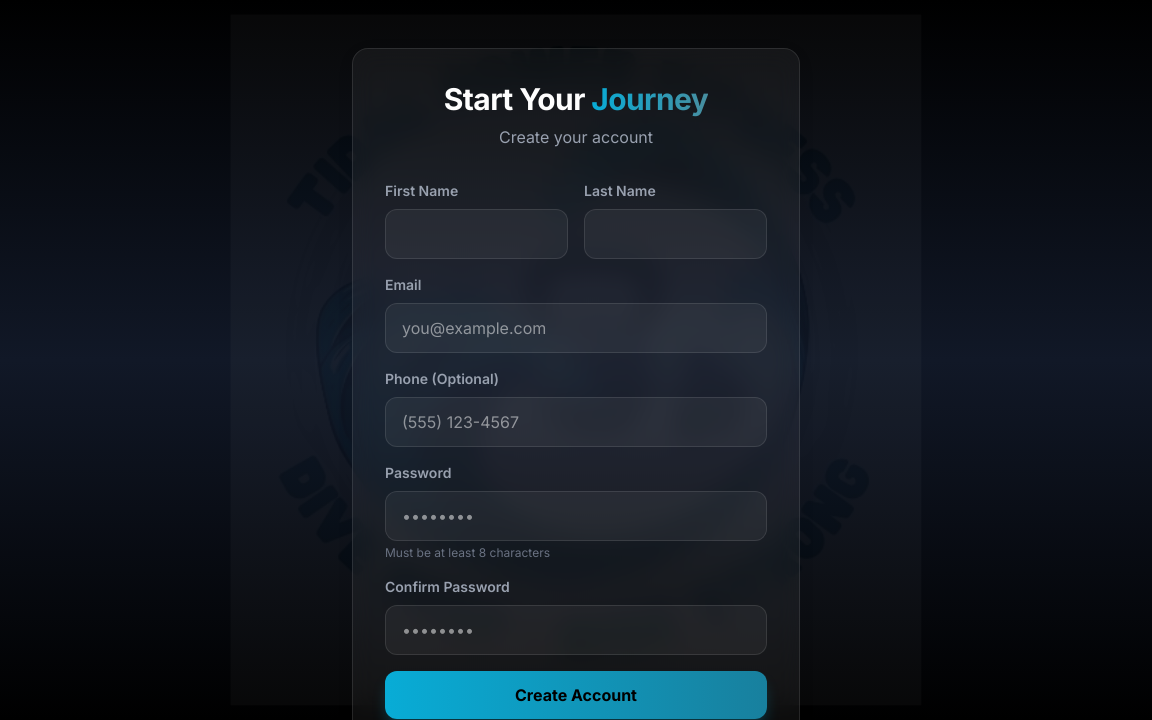
Test case: RegisterPage › should show an error on registration failure
The image size is (1152, 720).
In the field labelled "First Name": (476, 234) top-left (385, 209), bottom-right (568, 259), type "John"
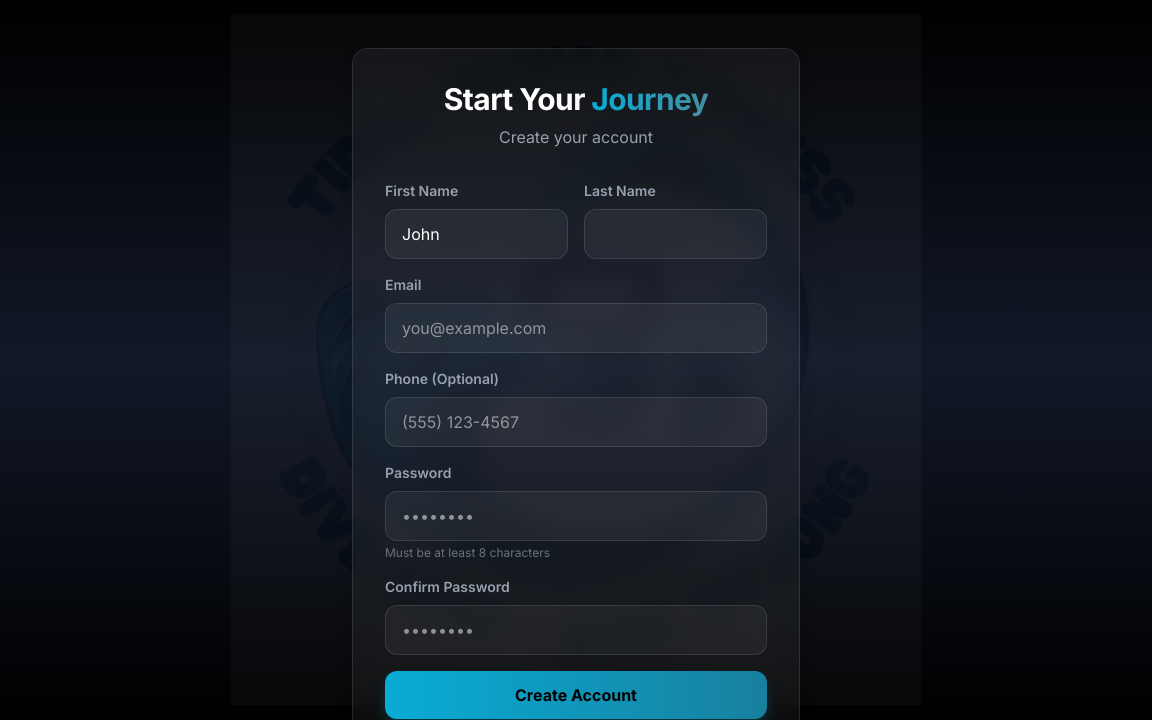
In the field labelled "Last Name": (676, 234) top-left (584, 209), bottom-right (767, 259), type "Doe"
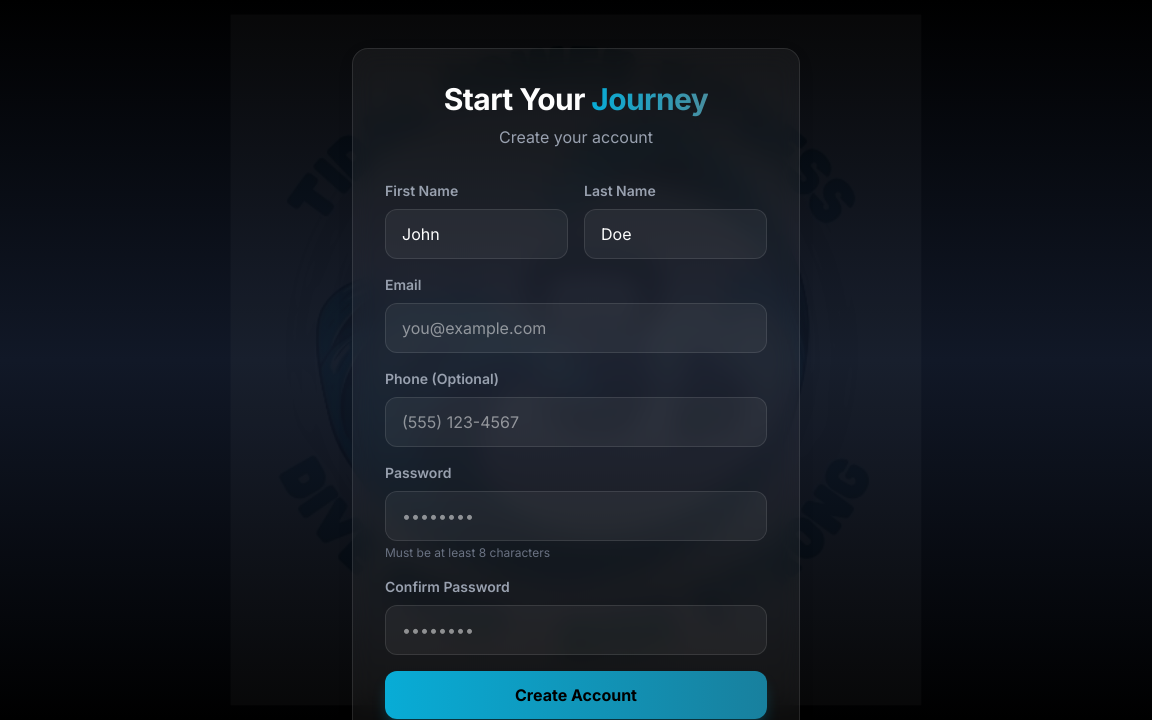
In the field labelled "Email": (576, 328) top-left (385, 303), bottom-right (767, 353), type "john.doe@example.com"
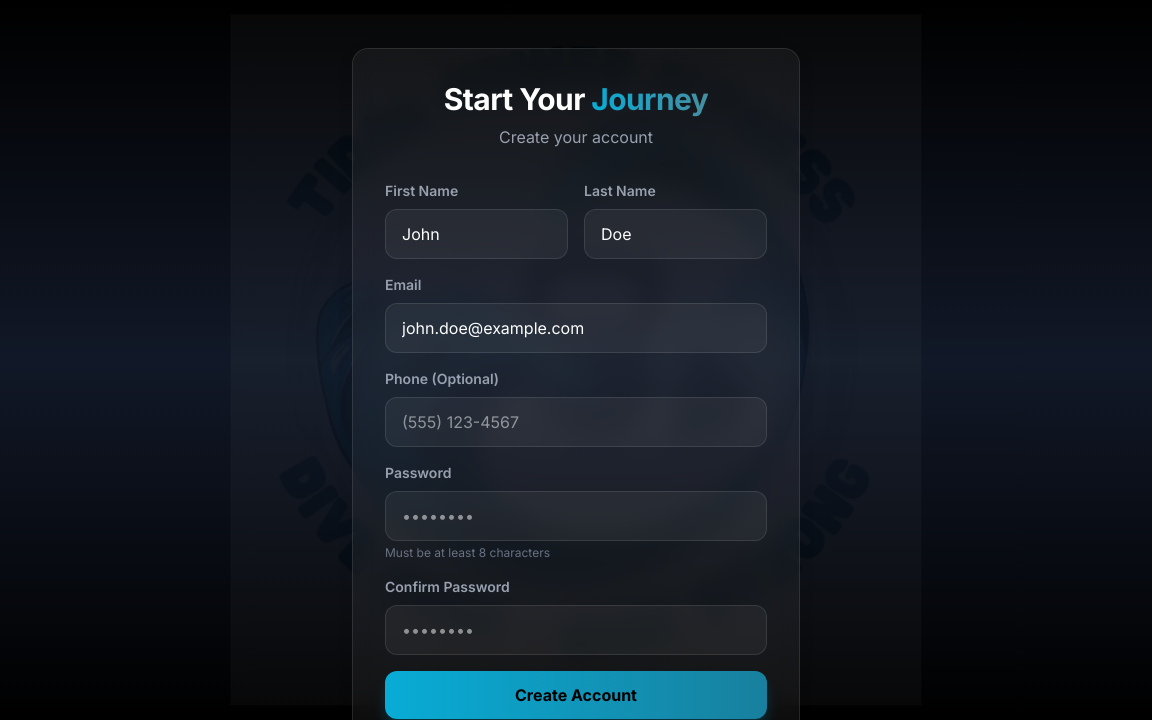
In the password field labelled "Password": (576, 516) top-left (385, 491), bottom-right (767, 541), type "password123"
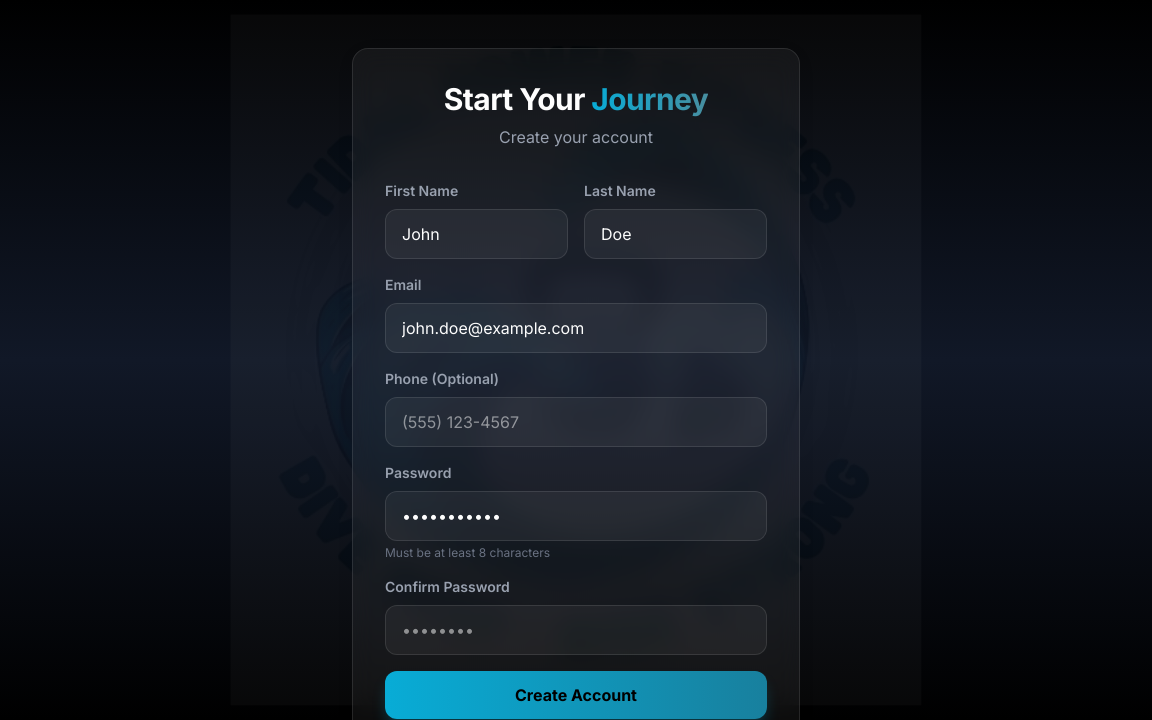
In the password field labelled "Confirm Password": (576, 630) top-left (385, 605), bottom-right (767, 655), type "password123"
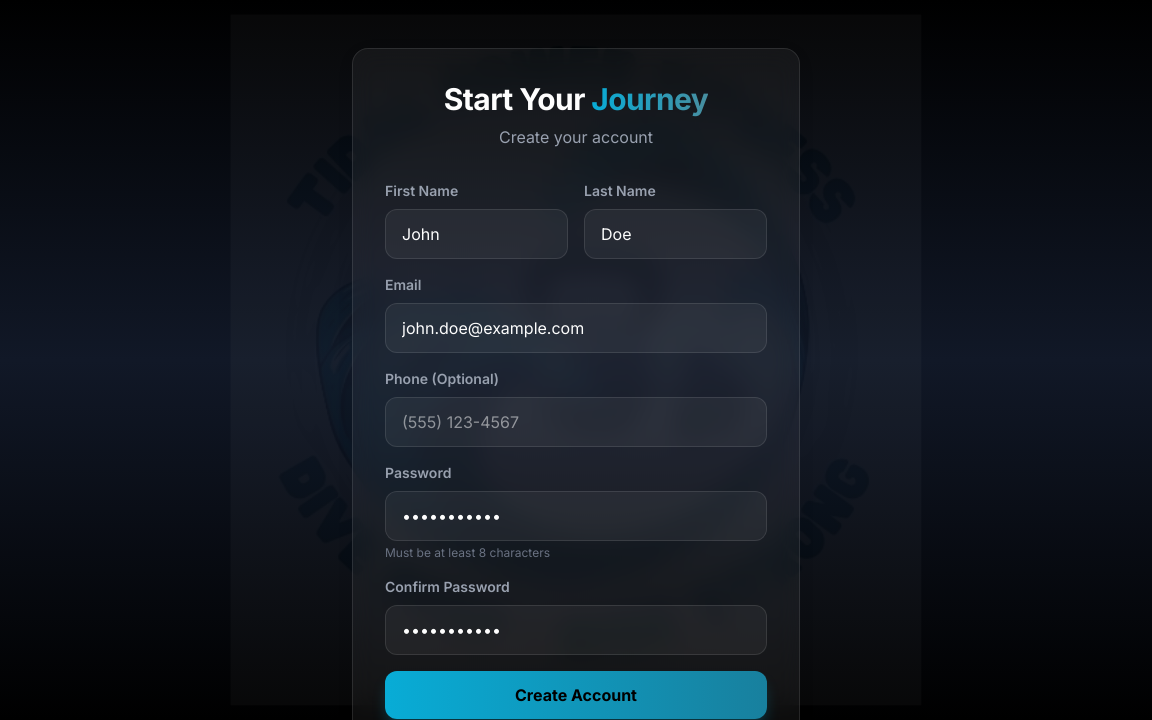
Click the button "Create Account": (576, 695) top-left (385, 671), bottom-right (767, 719)
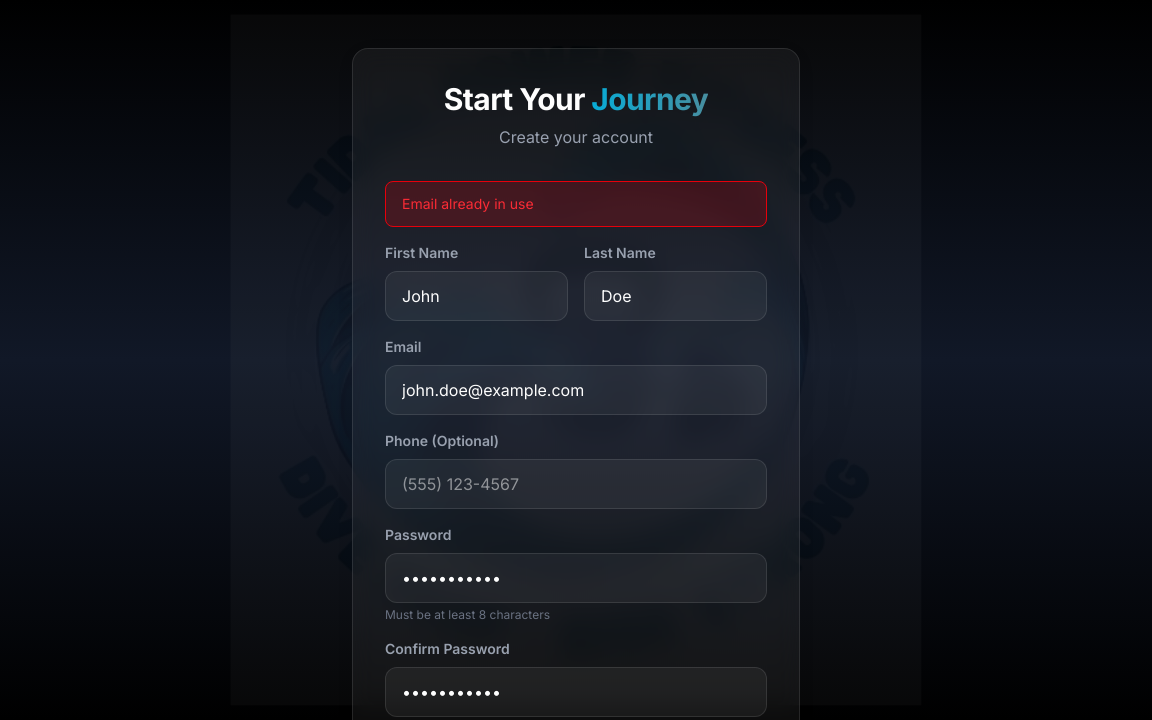
Result: the text "Email already in use" is shown at top-left (385, 181), bottom-right (767, 227)
